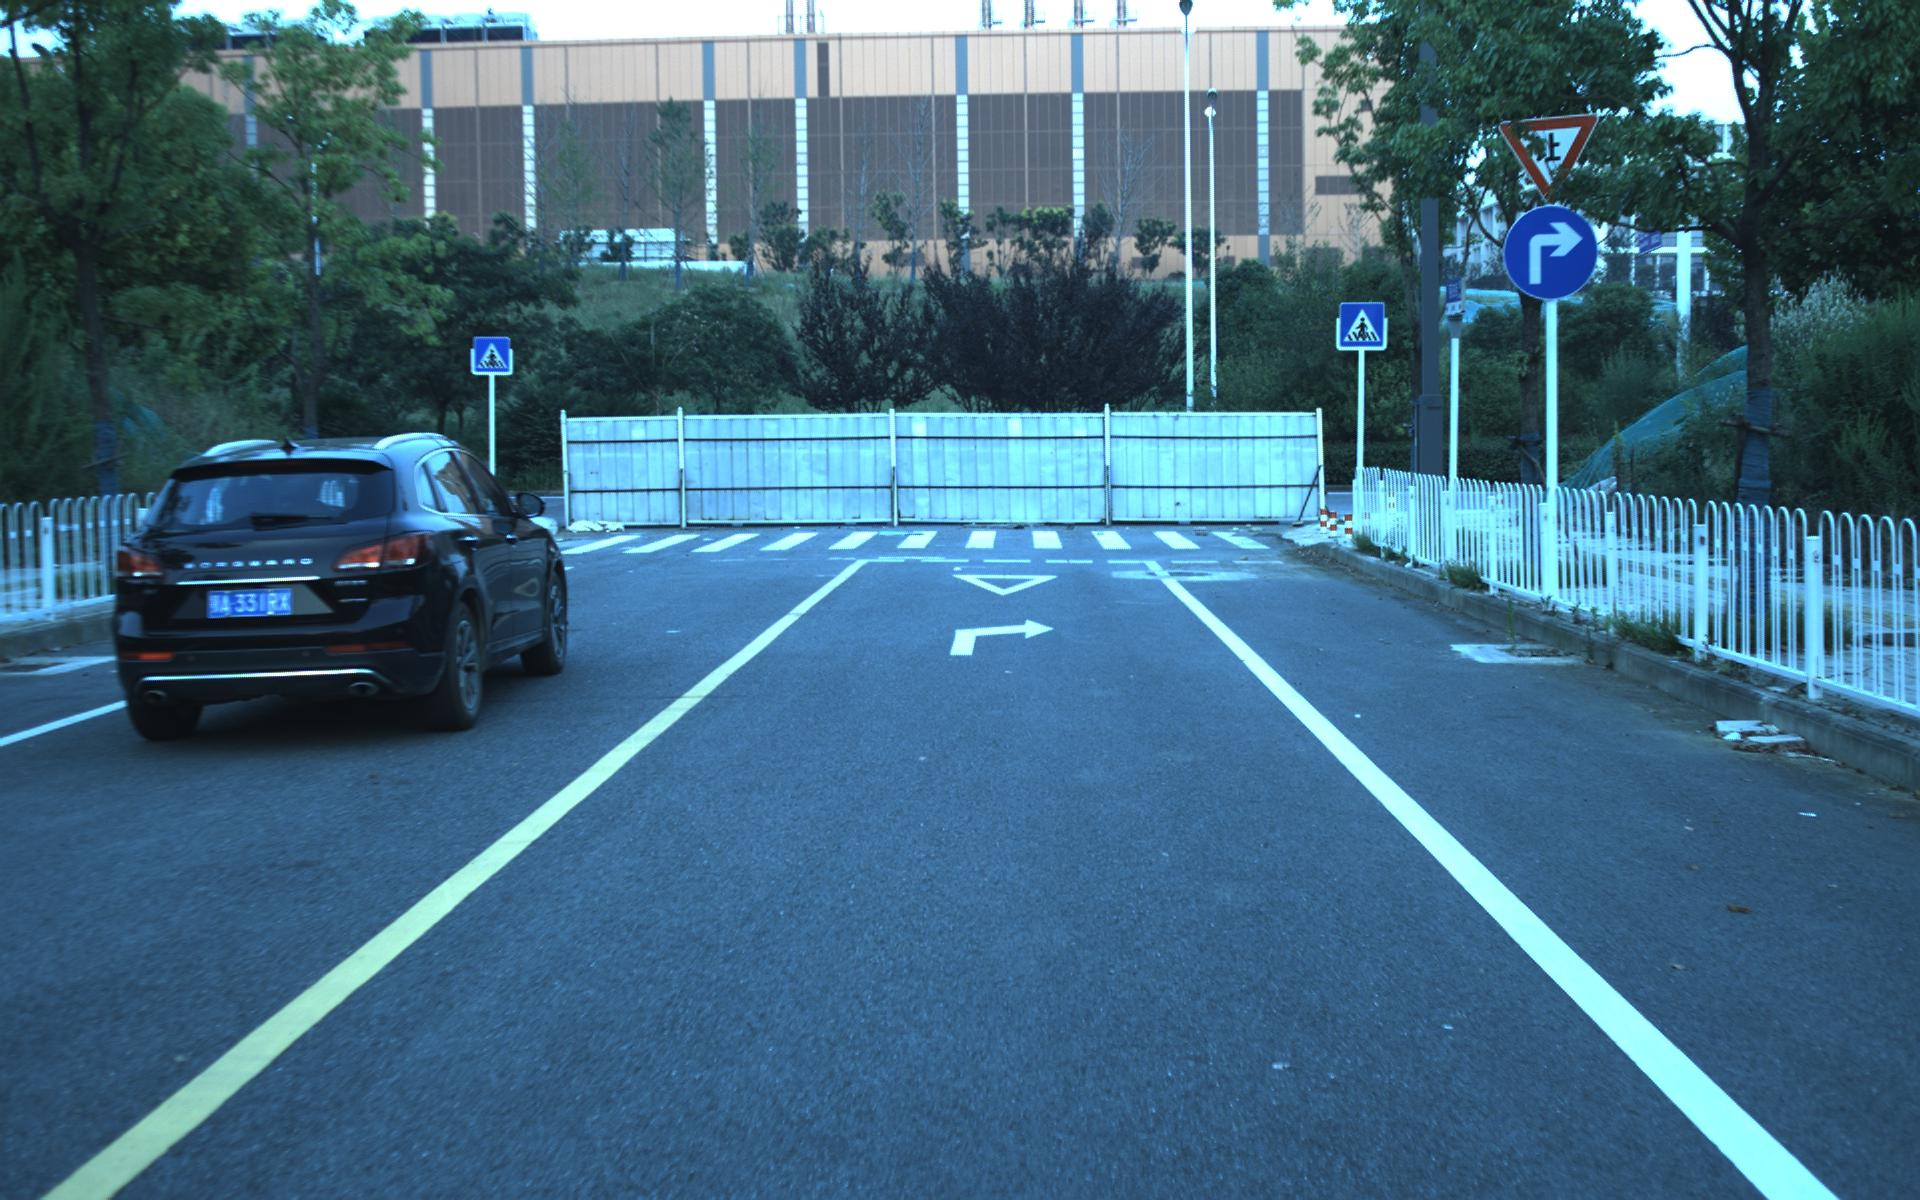Car: (95, 423, 578, 748)
